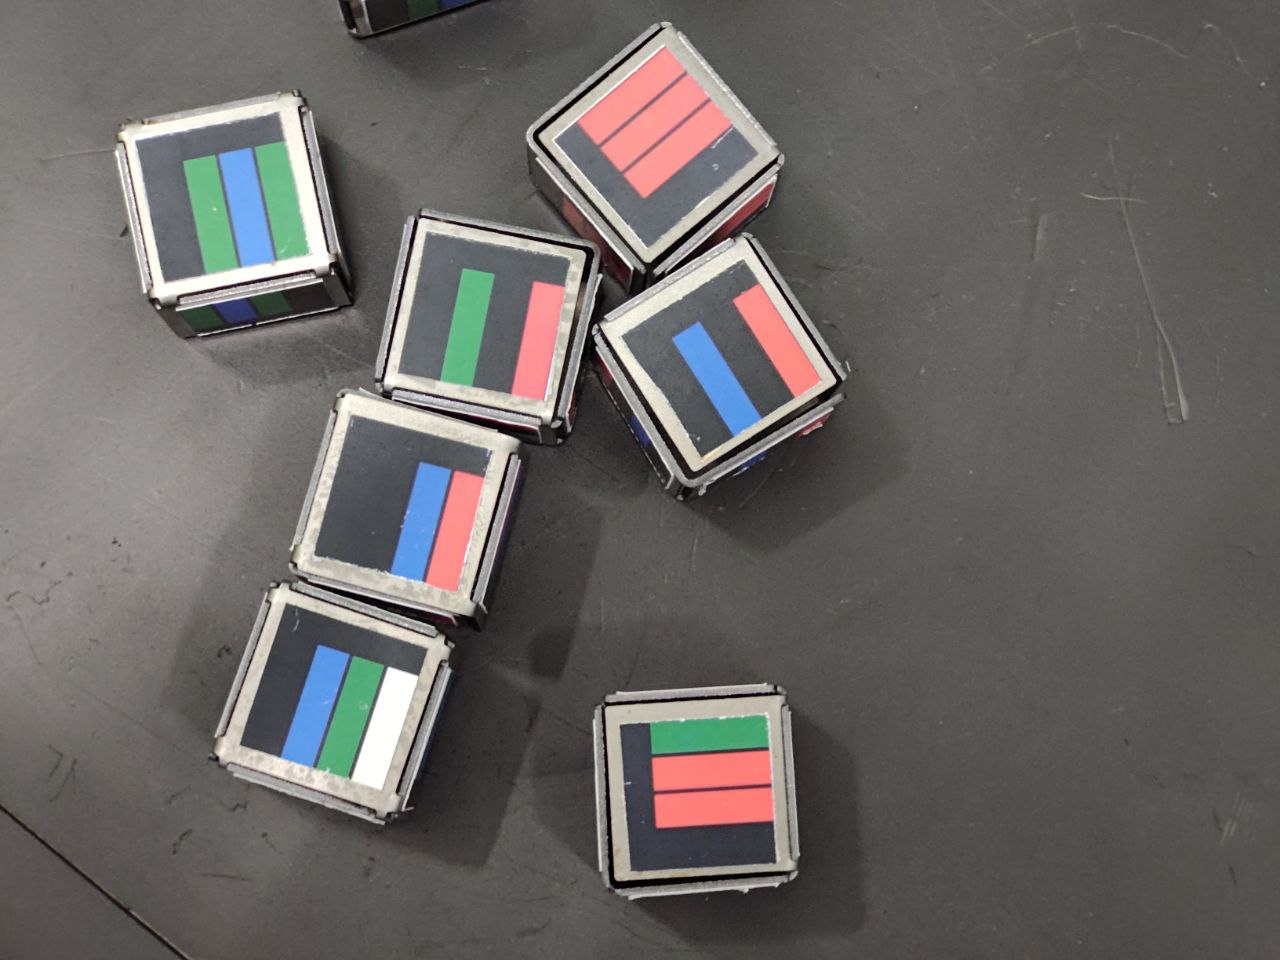Cube: (578, 216, 862, 515), (512, 8, 801, 291), (263, 373, 549, 641), (199, 567, 473, 843), (354, 194, 611, 457), (574, 657, 823, 925), (104, 74, 350, 321)
